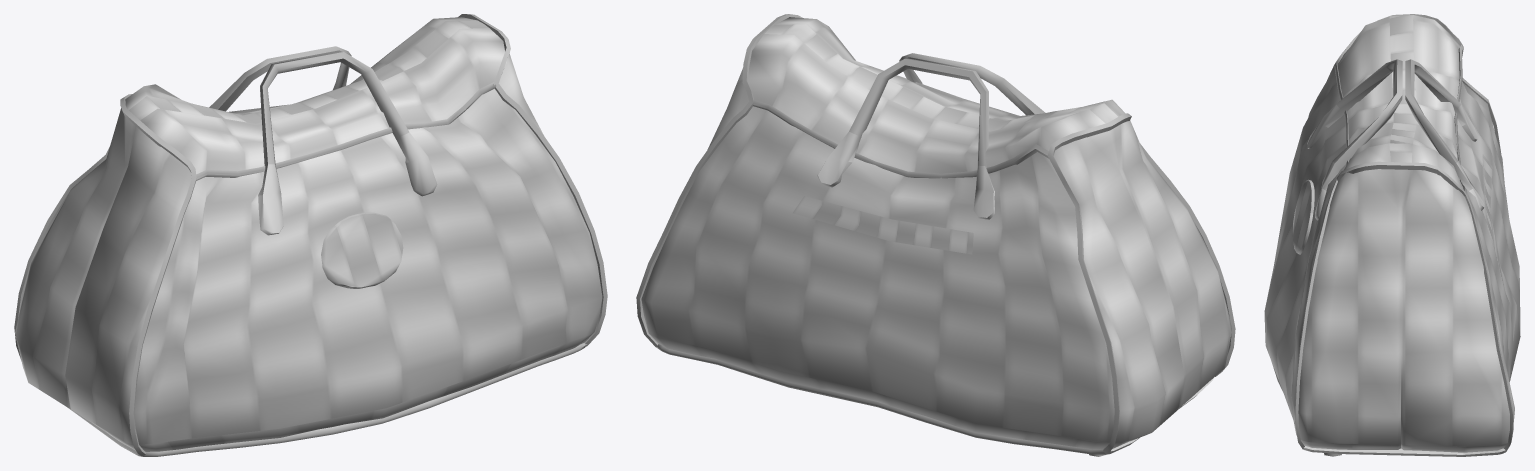
The model's file is bolsaverde.obj.
3 renders of one model, left to right at view 1: azimuth 30°, elevation 25°; view 2: azimuth 150°, elevation 25°; view 3: azimuth 270°, elevation 25°, orthographic. The views are drawn at different scales.
Bounding box in the file's own units: 1.04 × 0.6546 × 0.5084.
Materials: 1 (1 with a texture image).
